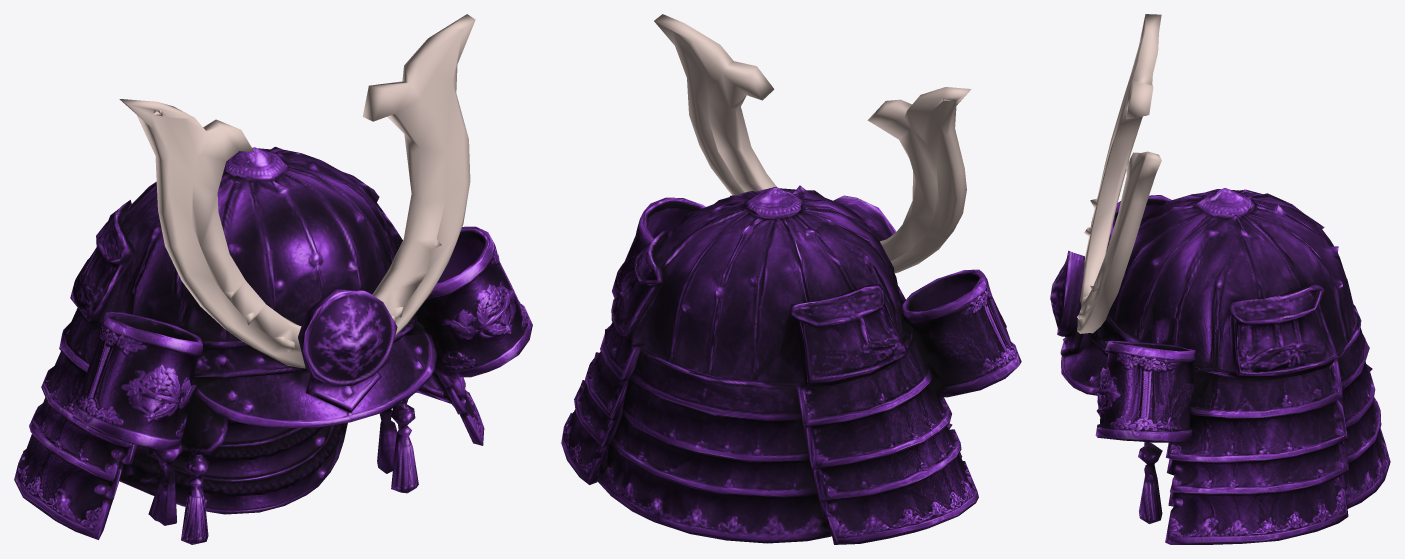
File: paper-helmet-purple.glb
3 renders of one model, left to right at view 1: azimuth 30°, elevation 25°; view 2: azimuth 150°, elevation 25°; view 3: azimuth 270°, elevation 25°, orthographic. The views are drawn at different scales.
Visible parts, largest first — view 1: tripo_part_0, tripo_part_2, tripo_part_7, tripo_part_8, tripo_part_1, tripo_part_5, tripo_part_6, tripo_part_10, tripo_part_4, tripo_part_9, tripo_part_14, tripo_part_11 (+1 smaller); view 2: tripo_part_0, tripo_part_2, tripo_part_8, tripo_part_7, tripo_part_1, tripo_part_14, tripo_part_6; view 3: tripo_part_0, tripo_part_1, tripo_part_8, tripo_part_7, tripo_part_6, tripo_part_5, tripo_part_9, tripo_part_14, tripo_part_2.
Boxes of the visible parts, x1,y1,x2,y2 form: tripo_part_0: [70, 146, 425, 514]; tripo_part_2: [14, 308, 202, 539]; tripo_part_7: [362, 14, 475, 336]; tripo_part_8: [119, 99, 305, 368]; tripo_part_1: [415, 226, 532, 445]; tripo_part_5: [191, 326, 437, 427]; tripo_part_6: [298, 288, 397, 412]; tripo_part_10: [181, 393, 227, 455]; tripo_part_4: [181, 453, 209, 544]; tripo_part_9: [391, 394, 418, 493]; tripo_part_14: [224, 147, 294, 182]; tripo_part_11: [148, 445, 184, 525]; tripo_part_0: [597, 185, 913, 543]; tripo_part_2: [796, 269, 1021, 544]; tripo_part_8: [867, 87, 971, 273]; tripo_part_7: [654, 14, 776, 195]; tripo_part_1: [561, 197, 705, 484]; tripo_part_14: [725, 187, 802, 218]; tripo_part_6: [833, 195, 896, 240]; tripo_part_0: [1090, 189, 1390, 508]; tripo_part_1: [1095, 324, 1349, 544]; tripo_part_8: [1080, 14, 1161, 305]; tripo_part_7: [1077, 151, 1161, 333]; tripo_part_6: [1050, 250, 1084, 357]; tripo_part_5: [1061, 333, 1107, 395]; tripo_part_9: [1138, 442, 1162, 523]; tripo_part_14: [1193, 188, 1253, 229]; tripo_part_2: [1106, 195, 1171, 250].
Size of the model in its own units: 0.9653 by 0.9802 by 0.7475.
Materials: 2 (1 with a texture image).
